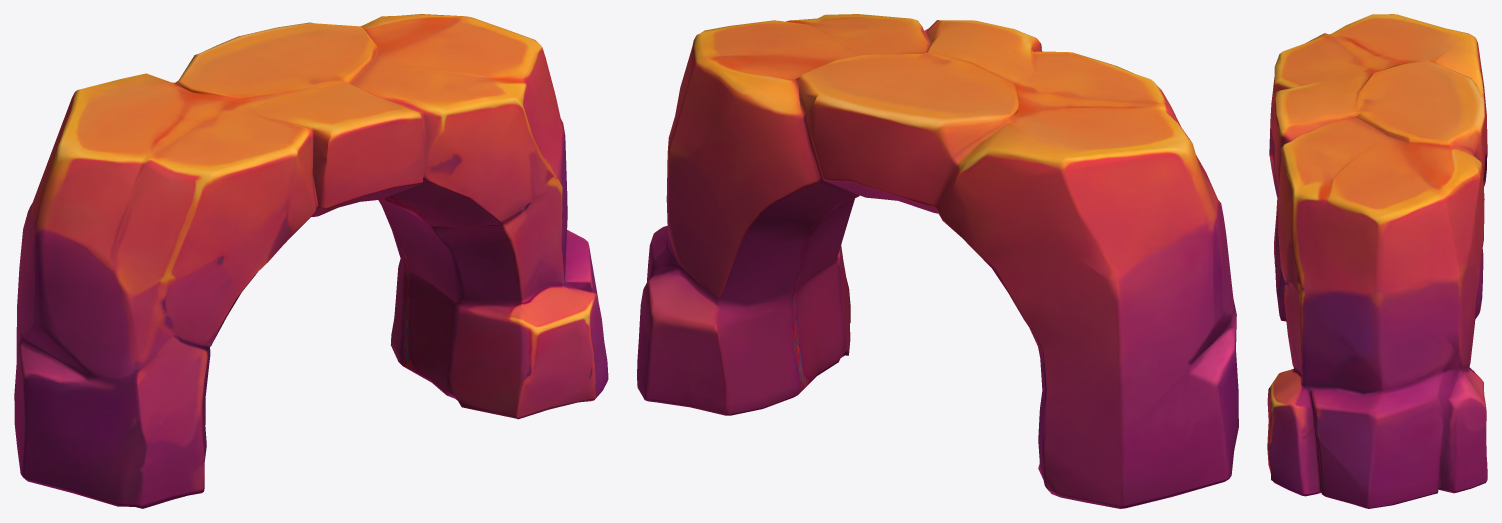
The model's file is Mountain_Archway.glb.
3 renders of one model, left to right at view 1: azimuth 30°, elevation 25°; view 2: azimuth 150°, elevation 25°; view 3: azimuth 270°, elevation 25°, orthographic. The views are drawn at different scales.
Visible parts, largest first — view 1: geometry_0; view 2: geometry_0; view 3: geometry_0.
Boxes of the visible parts, bbox=[...] form: geometry_0: bbox=[14, 14, 608, 508]; geometry_0: bbox=[637, 14, 1238, 508]; geometry_0: bbox=[1267, 14, 1487, 508].
Bounding box in the file's own units: 0.957 × 0.5356 × 0.3706.
Materials: 1 (1 with a texture image).
